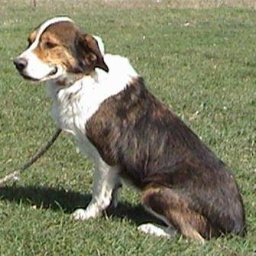dog: (11, 13, 247, 247)
